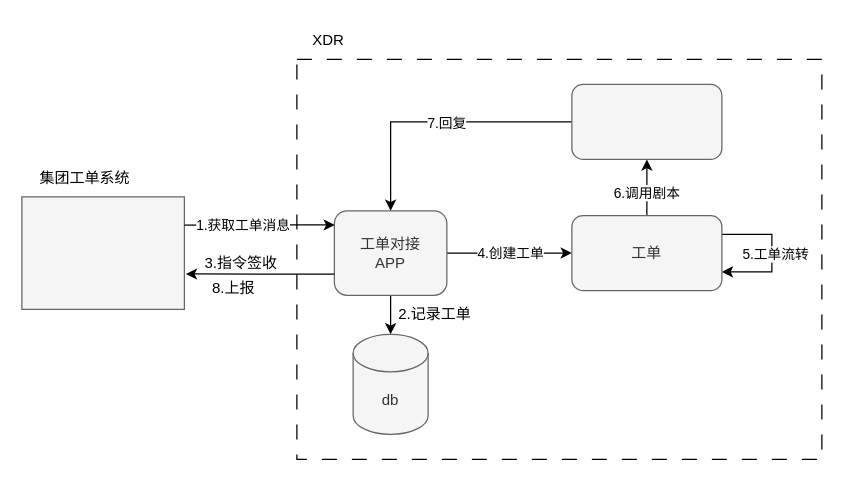
Image size: 844x481. Some labels were removed from this diagram. Here are the shapes that lost their labels. From the top down, the centre of each, then its label:
At point (646, 121): "SOAR".
At point (102, 252): "kafka".
